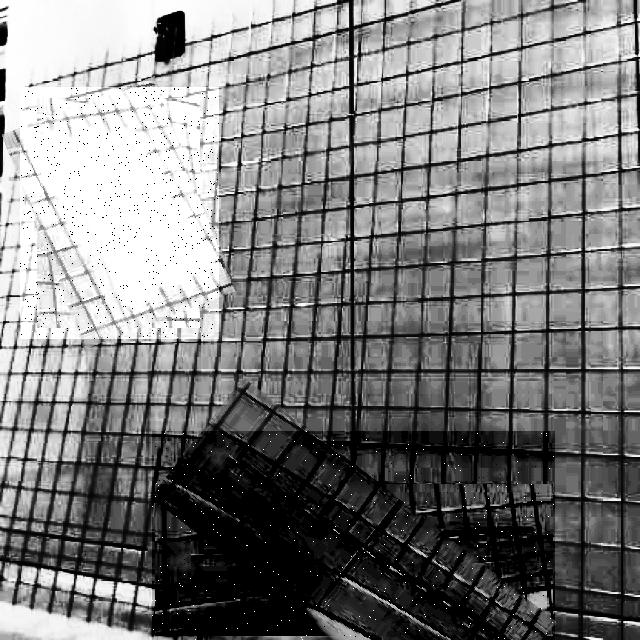anomaly-fence: (152, 431, 555, 640), (20, 87, 219, 339)
